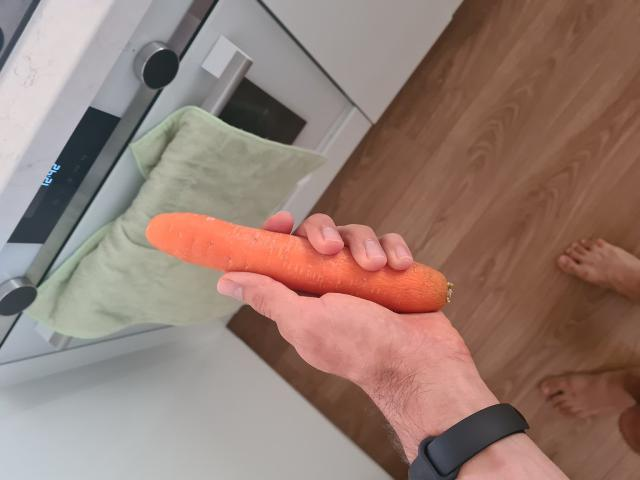carrot: (145, 208, 456, 314)
